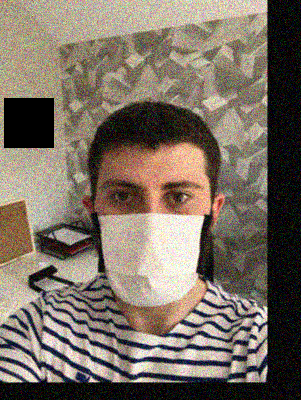with_mask: (94, 166, 214, 305)
